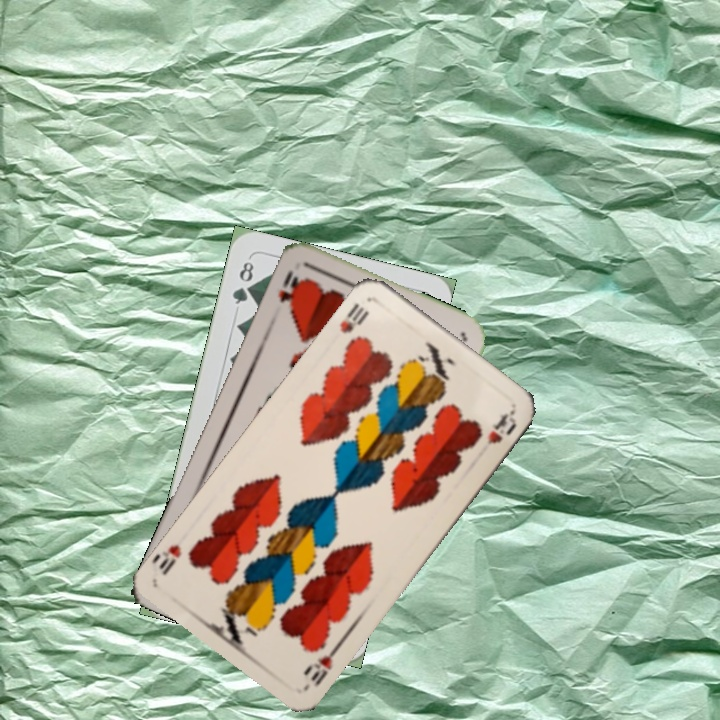G8: (228, 257, 257, 307)
H10: (300, 640, 343, 690), (335, 298, 372, 336)
HO: (274, 266, 305, 311)
